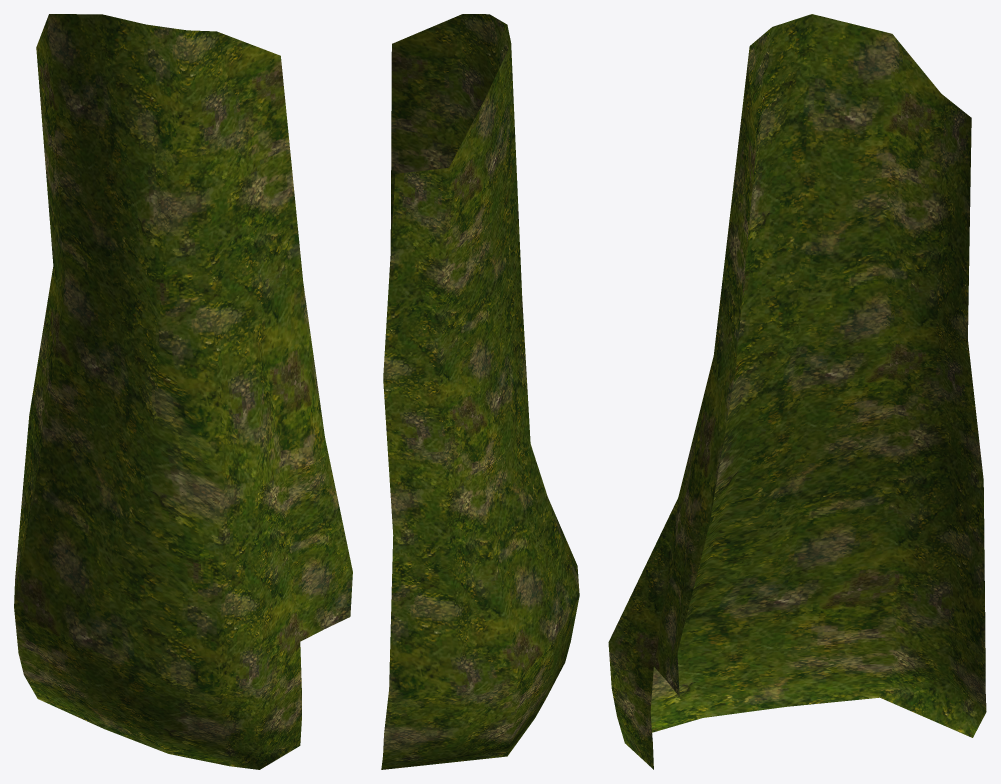
Rendered from OVERHILL_A_01_OBJECT21.fbx.
3 renders of one model, left to right at view 1: azimuth 30°, elevation 25°; view 2: azimuth 150°, elevation 25°; view 3: azimuth 270°, elevation 25°, orthographic. The views are drawn at different scales.
Parts seen in each view (by area): view 1: OVERHILL_A_01_OBJECT21; view 2: OVERHILL_A_01_OBJECT21; view 3: OVERHILL_A_01_OBJECT21.
Part boxes in pixels (<box>): OVERHILL_A_01_OBJECT21: <box>14,14,352,769</box>; OVERHILL_A_01_OBJECT21: <box>381,14,579,769</box>; OVERHILL_A_01_OBJECT21: <box>608,14,986,769</box>.
Bounding box in the file's own units: 40592 × 118192 × 57975.
1 material, 1 textured.
